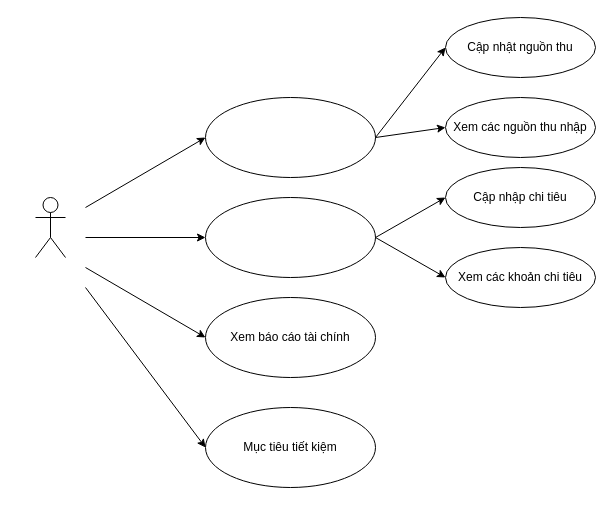
The diagram is 613 pixels wide and 505 high, and some of its shapes have lost their labels. The shapes that lost their labels are listed below. From the top down, each one's box as (x1, y1, x2, y2) in pixels, then its label:
(204, 96, 376, 178): Quản lý thu nhập
(34, 196, 66, 258): Người Dùng
(204, 196, 376, 278): Quản lý chi tiêu
